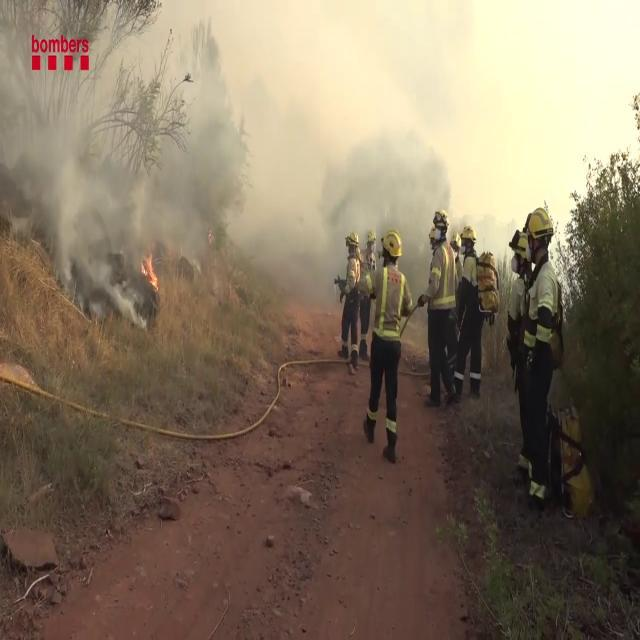Fire: (139, 245, 161, 295)
Smoke: (2, 0, 614, 278)
